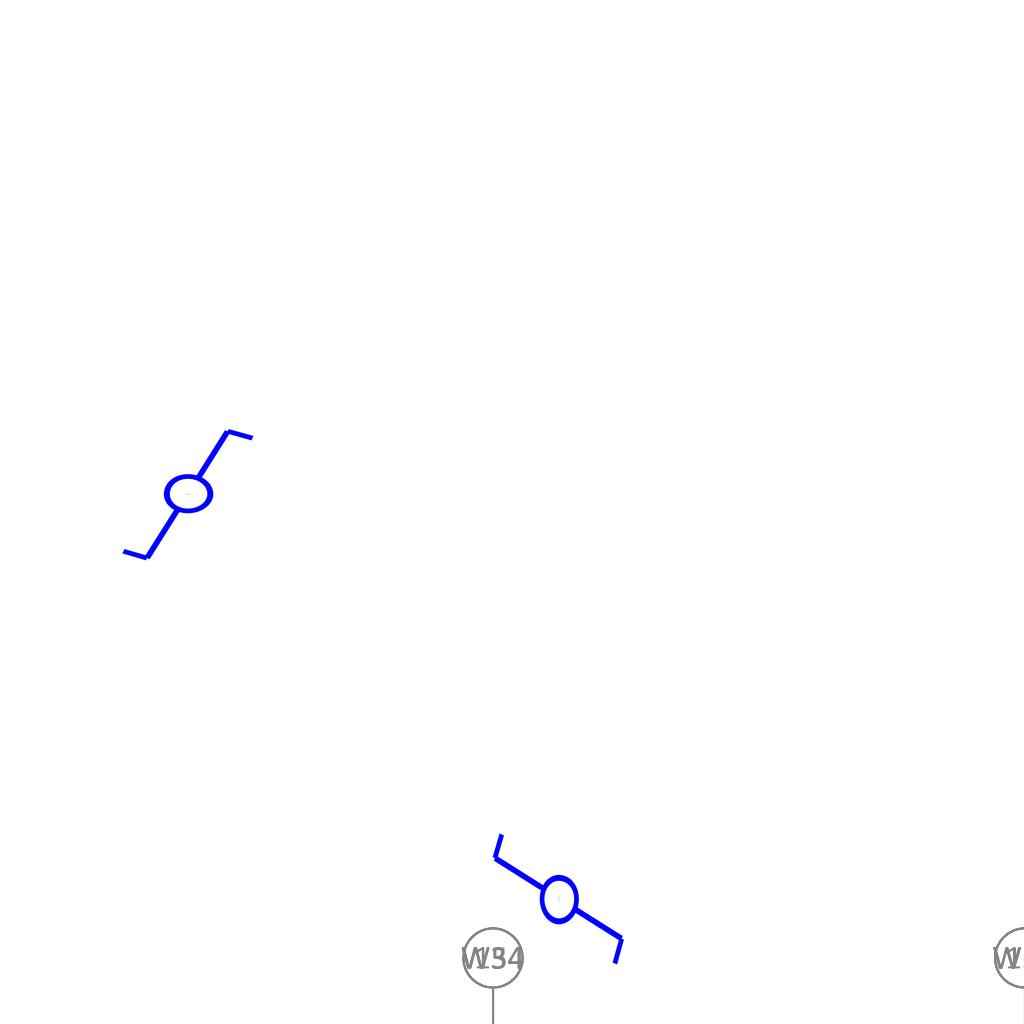Wechselschalter: (118, 424, 275, 568), (485, 829, 629, 986)
